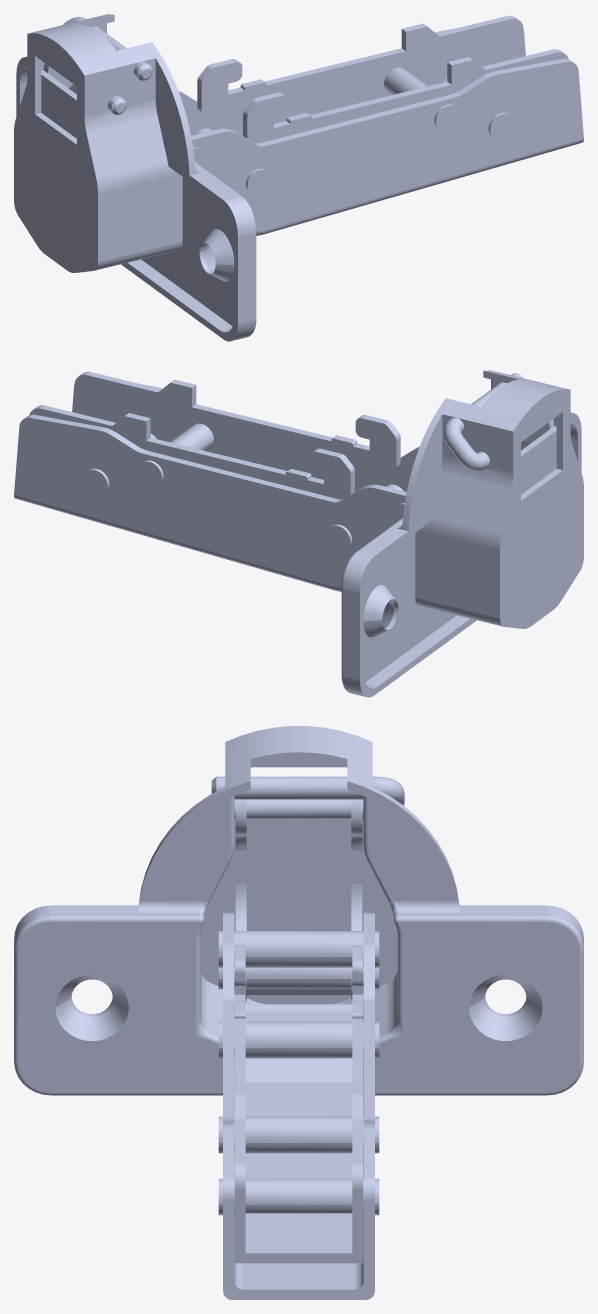
Rendered from F000001,F000006,F000007-CLOSE_3D.glb.
The picture shows the model from 3 angles, top to bottom: view 1: azimuth 30°, elevation 25°; view 2: azimuth 150°, elevation 25°; view 3: azimuth 270°, elevation 25°; orthographic projection. The views are drawn at different scales.
Parts seen in each view (by area): view 1: empty_4, empty_2, empty_11, empty_3, empty_8, empty_10, empty_7, empty_9; view 2: empty_4, empty_2, empty_11, empty_3, empty_10, empty_8, empty_7, empty_9; view 3: empty_4, empty_11, empty_2, empty_3, empty_10, empty_6, empty_7, empty_8, empty_9, empty_5.
Part boxes in pixels (<box>): empty_4: <box>14,14,256,341</box>; empty_2: <box>178,28,583,235</box>; empty_11: <box>197,15,568,143</box>; empty_3: <box>41,63,76,138</box>; empty_8: <box>384,67,460,131</box>; empty_10: <box>61,16,152,114</box>; empty_7: <box>195,128,272,196</box>; empty_9: <box>441,78,514,140</box>; empty_4: <box>341,370,583,697</box>; empty_2: <box>14,384,419,591</box>; empty_11: <box>29,371,400,499</box>; empty_3: <box>521,419,556,494</box>; empty_10: <box>443,373,536,471</box>; empty_8: <box>137,423,213,487</box>; empty_7: <box>325,484,402,552</box>; empty_9: <box>83,434,156,496</box>; empty_4: <box>14,726,583,1095</box>; empty_11: <box>234,946,363,1263</box>; empty_2: <box>223,912,374,1299</box>; empty_3: <box>235,799,362,1002</box>; empty_10: <box>211,776,404,819</box>; empty_6: <box>218,931,379,967</box>; empty_7: <box>218,1021,379,1058</box>; empty_8: <box>218,1116,379,1153</box>; empty_9: <box>218,1178,379,1215</box>; empty_5: <box>218,967,379,989</box>.
Bounding box in the file's own units: 80.6 × 37.7 × 62.
